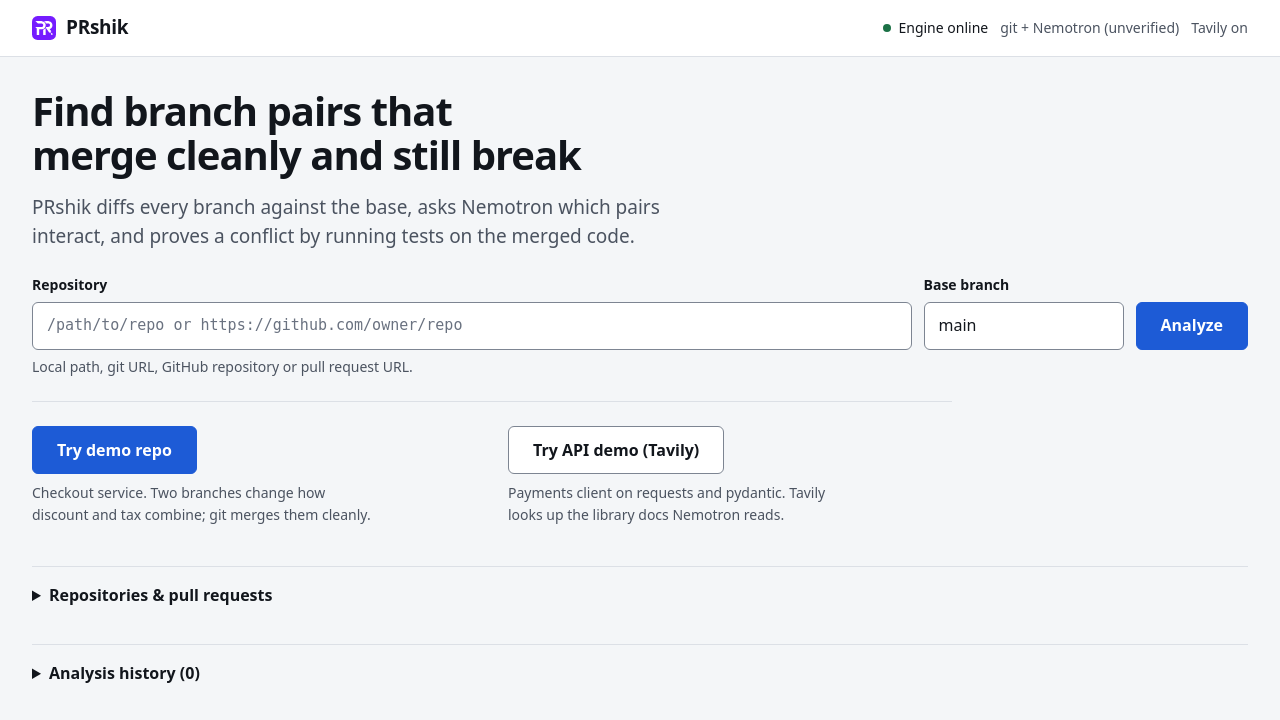
App › degrades the current run after model_error with no model score
Check: the text "git + Nemotron (unverified)" is shown, box [1000, 17, 1179, 39]
What coordinates should you click on to do the following:
click the button "Try demo repo"
I would click on:
 (114, 450)
Its box is [32, 426, 197, 474].
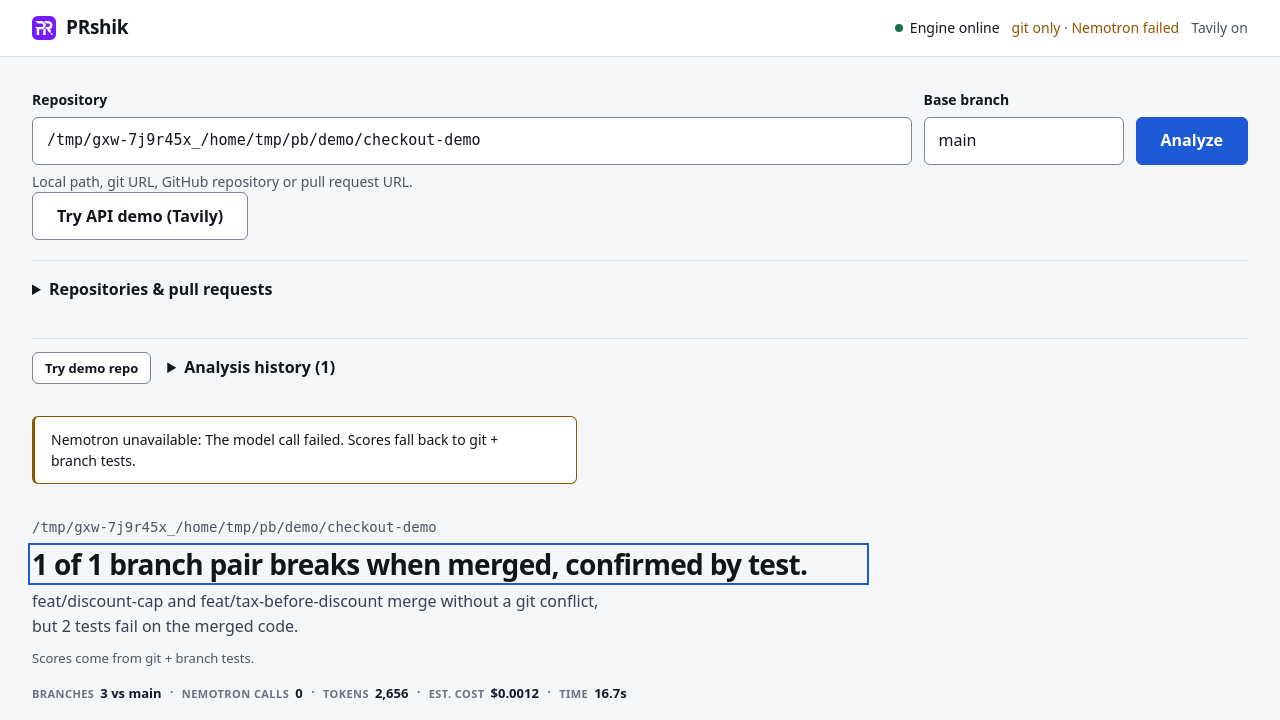
Check: the text "Nemotron unavailable: The model call failed. Scores fall back to git + branch tests." is shown, box [32, 416, 576, 484]
Check: the text "git only · Nemotron failed" is shown, box [1012, 17, 1179, 39]
Check: the text "git + Nemotron" is gone
